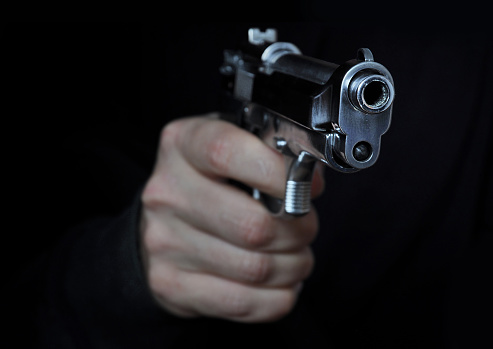gun: (212, 24, 397, 222)
